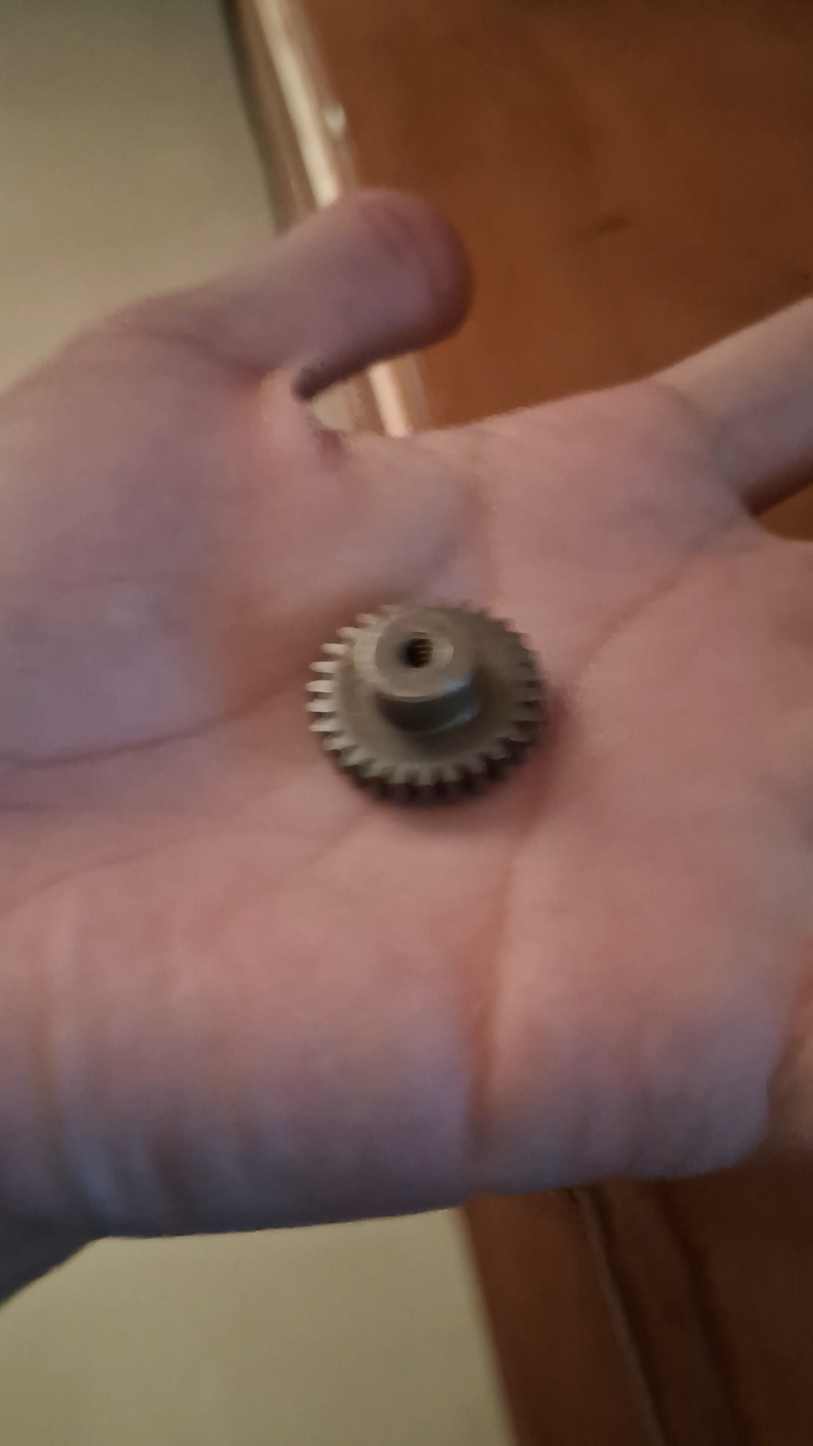spur gear: (308, 607, 545, 802)
